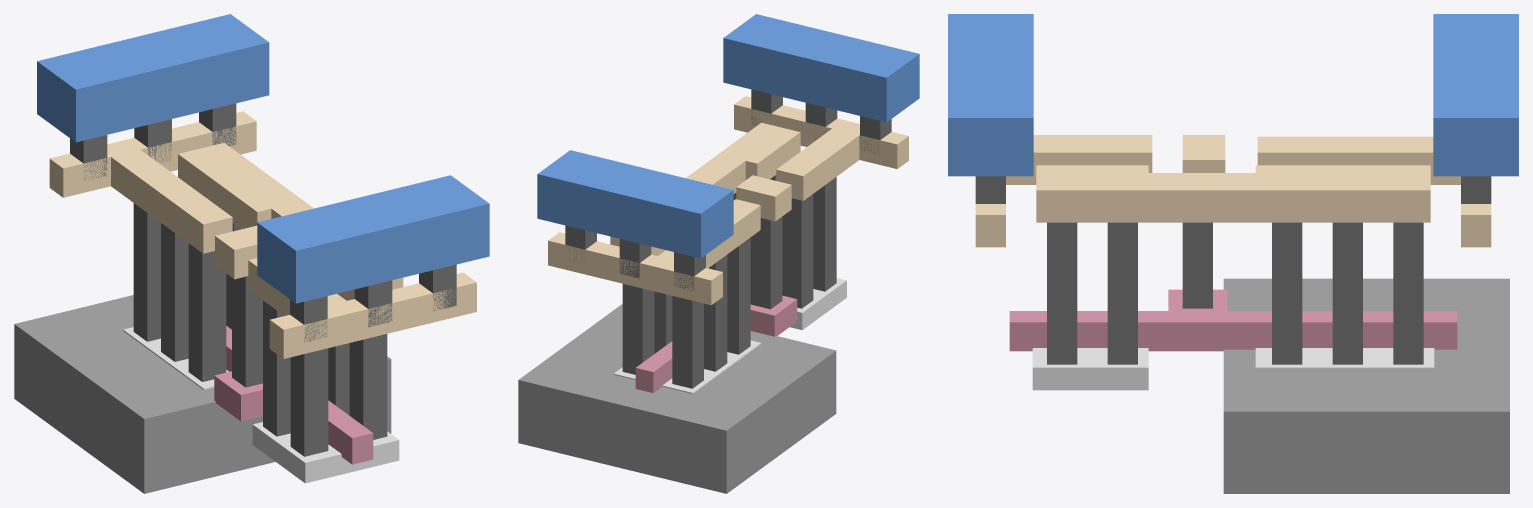
The model's file is sky130_fd_sc_hd__inv_1.gds.glb.
The picture shows the model from 3 angles, left to right: view 1: azimuth 30°, elevation 25°; view 2: azimuth 150°, elevation 25°; view 3: azimuth 270°, elevation 25°; orthographic projection. The views are drawn at different scales.
Parts seen in each view (by area): view 1: sky130_fd_sc_hd__inv_1_met1, sky130_fd_sc_hd__inv_1_nwell, sky130_fd_sc_hd__inv_1_li1, sky130_fd_sc_hd__inv_1_licon, sky130_fd_sc_hd__inv_1_mcon, sky130_fd_sc_hd__inv_1_diff, sky130_fd_sc_hd__inv_1_poly; view 2: sky130_fd_sc_hd__inv_1_nwell, sky130_fd_sc_hd__inv_1_met1, sky130_fd_sc_hd__inv_1_li1, sky130_fd_sc_hd__inv_1_licon, sky130_fd_sc_hd__inv_1_mcon, sky130_fd_sc_hd__inv_1_poly, sky130_fd_sc_hd__inv_1_diff; view 3: sky130_fd_sc_hd__inv_1_nwell, sky130_fd_sc_hd__inv_1_li1, sky130_fd_sc_hd__inv_1_met1, sky130_fd_sc_hd__inv_1_licon, sky130_fd_sc_hd__inv_1_poly, sky130_fd_sc_hd__inv_1_diff, sky130_fd_sc_hd__inv_1_mcon.
Part boxes in pixels (bbox=[...]): sky130_fd_sc_hd__inv_1_met1: bbox=[37, 14, 489, 303]; sky130_fd_sc_hd__inv_1_nwell: bbox=[14, 295, 391, 493]; sky130_fd_sc_hd__inv_1_li1: bbox=[49, 111, 476, 358]; sky130_fd_sc_hd__inv_1_licon: bbox=[133, 203, 387, 456]; sky130_fd_sc_hd__inv_1_mcon: bbox=[70, 103, 456, 342]; sky130_fd_sc_hd__inv_1_diff: bbox=[123, 327, 399, 483]; sky130_fd_sc_hd__inv_1_poly: bbox=[214, 326, 373, 464]; sky130_fd_sc_hd__inv_1_nwell: bbox=[518, 304, 836, 493]; sky130_fd_sc_hd__inv_1_met1: bbox=[537, 14, 919, 258]; sky130_fd_sc_hd__inv_1_li1: bbox=[548, 96, 908, 305]; sky130_fd_sc_hd__inv_1_licon: bbox=[622, 175, 836, 388]; sky130_fd_sc_hd__inv_1_mcon: bbox=[565, 89, 891, 291]; sky130_fd_sc_hd__inv_1_poly: bbox=[635, 295, 797, 392]; sky130_fd_sc_hd__inv_1_diff: bbox=[613, 278, 846, 393]; sky130_fd_sc_hd__inv_1_nwell: bbox=[1223, 278, 1509, 493]; sky130_fd_sc_hd__inv_1_li1: bbox=[975, 135, 1491, 247]; sky130_fd_sc_hd__inv_1_met1: bbox=[948, 14, 1518, 176]; sky130_fd_sc_hd__inv_1_licon: bbox=[1047, 222, 1423, 364]; sky130_fd_sc_hd__inv_1_poly: bbox=[1009, 289, 1457, 351]; sky130_fd_sc_hd__inv_1_diff: bbox=[1032, 348, 1434, 390]; sky130_fd_sc_hd__inv_1_mcon: bbox=[975, 176, 1491, 203].
Bounding box in the file's own units: 1.76 × 2.24 × 3.2.
